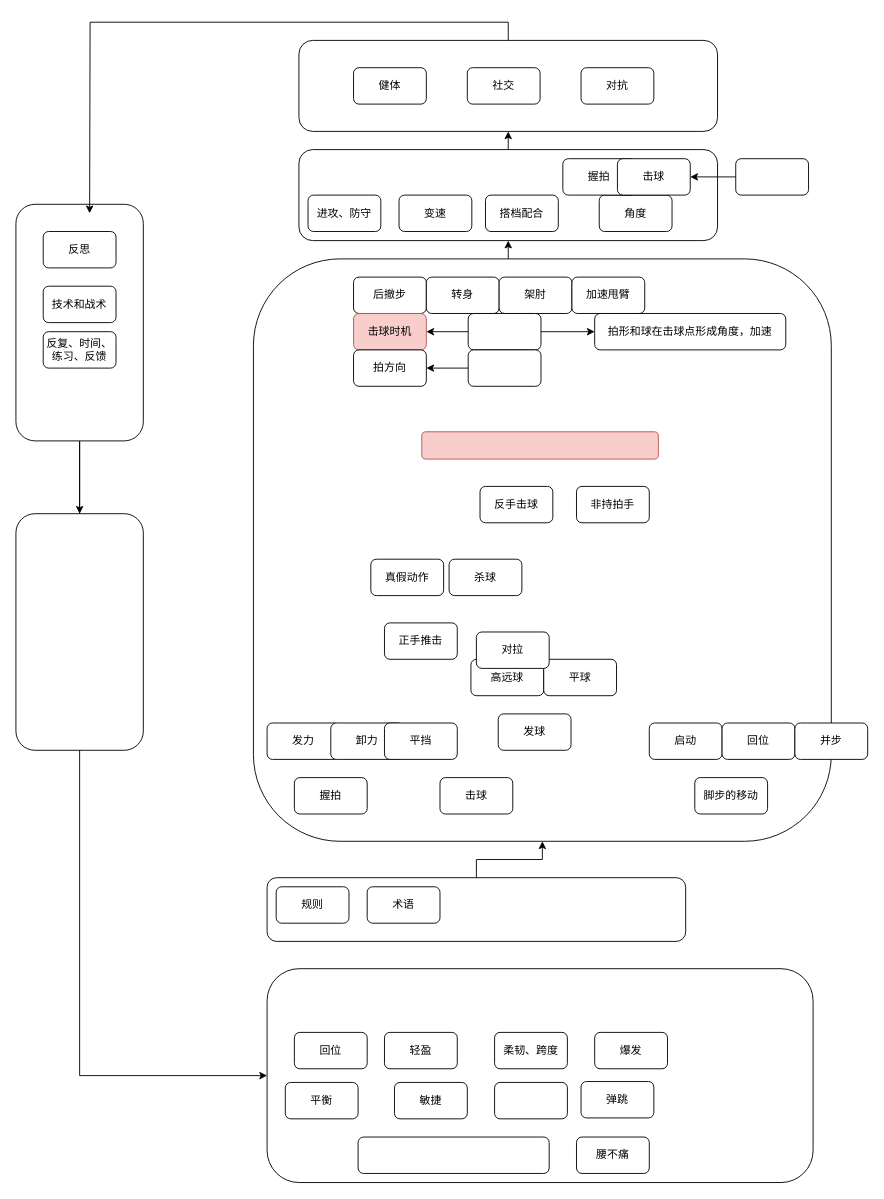
Some shapes in this 884 by 1199 pixel diagram are drawn without their labels. The centre of each missing label's shape, as x and y in pixels:
"协调" goes at pixel 530 1100.
"对手站位" goes at pixel 772 176.
"居家练习 控球 体能" goes at pixel 79 631.
"控球、落点、角度" goes at pixel 539 445.
"站位分析" goes at pixel 504 367.
"耐力、爆发力、速度和灵活性" goes at pixel 453 1154.
"预判" goes at pixel 504 331.
